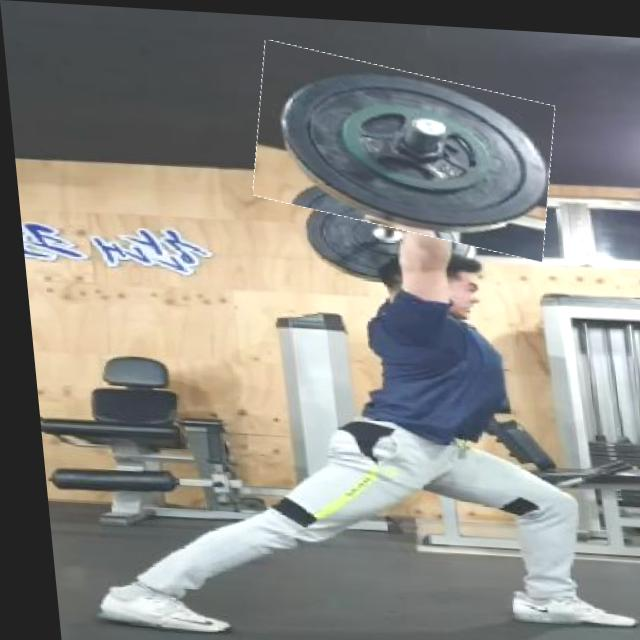barbell: (245, 48, 559, 245)
